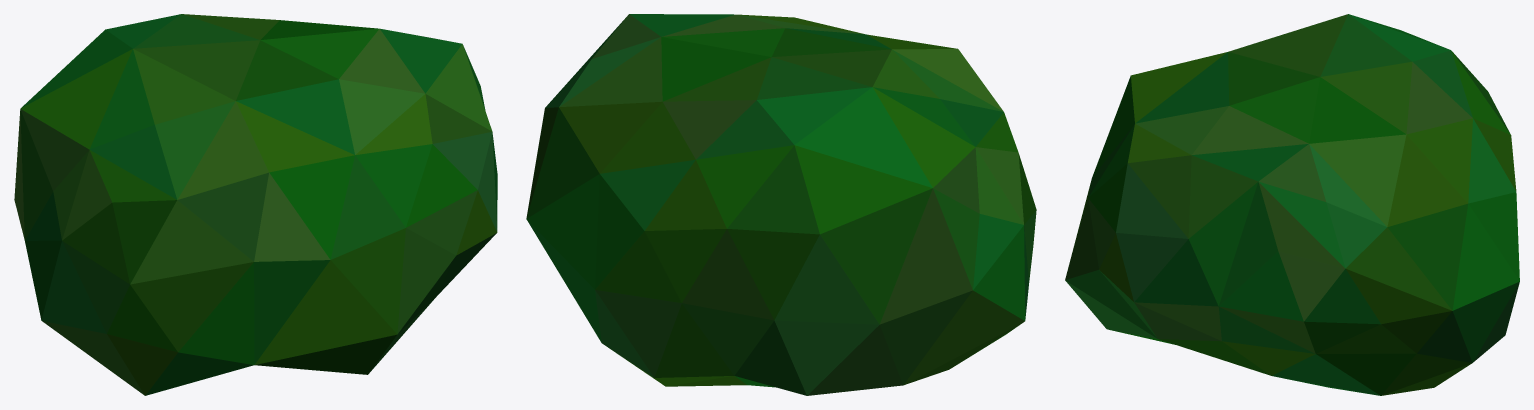
File: Bush02.glb
3 renders of one model, left to right at view 1: azimuth 30°, elevation 25°; view 2: azimuth 150°, elevation 25°; view 3: azimuth 270°, elevation 25°, orthographic. The views are drawn at different scales.
Parts seen in each view (by area): view 1: Bush02; view 2: Bush02; view 3: Bush02.
Part boxes in pixels (box(x1,y1,x2,y2)): Bush02: box(14, 14, 497, 395); Bush02: box(526, 14, 1036, 395); Bush02: box(1065, 14, 1519, 395).
Bounding box in the file's own units: 0.8924 × 0.5674 × 0.7835.
